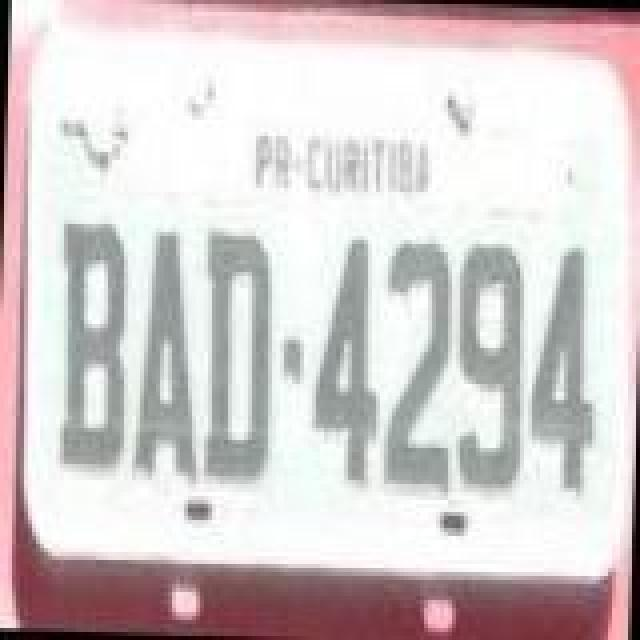2: (376, 230, 456, 490)
4: (304, 230, 384, 490), (522, 242, 598, 494)
9: (448, 240, 528, 496)
A: (130, 228, 206, 492)
B: (56, 220, 136, 476)
D: (200, 228, 280, 492)
